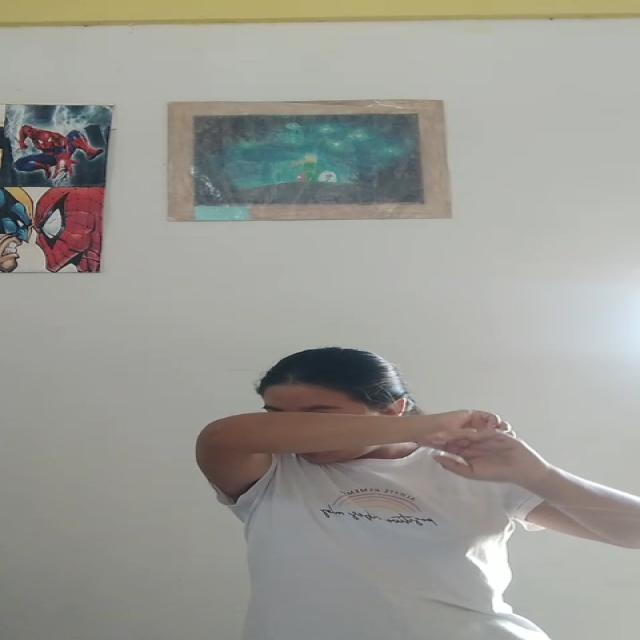7_mano_rostro: (240, 401, 433, 465)
